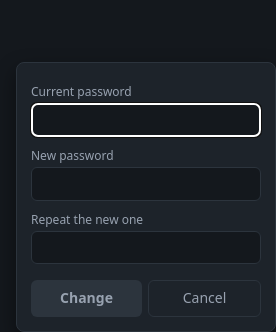
Test: changing your own password › clears what the shop said last time while it is asking again
This screenshot has width=276, height=332.
(page scrolled)
Type "the password in use" into the password field labelled "Current password".
click(146, 120); type("the password in use")  # box left=31, top=103, right=261, bottom=137
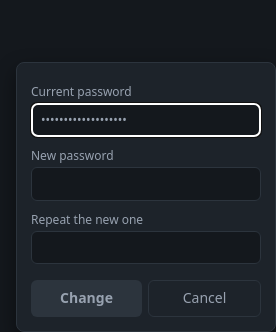
Type "a different password entirely" into the password field labelled "New password".
click(146, 184); type("a different password entirely")  # box left=31, top=167, right=261, bottom=201
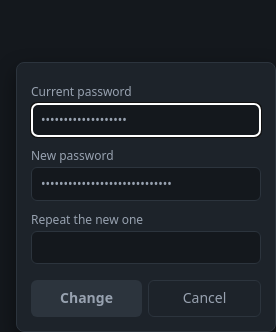
Type "a different password entirely" into the password field labelled "Repeat the new one".
click(146, 248); type("a different password entirely")  # box left=31, top=231, right=261, bottom=264
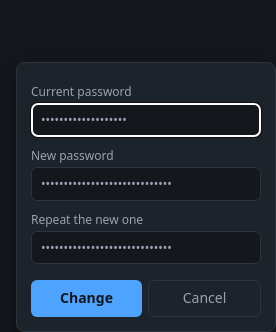
Click the button "Change".
click(86, 298)  # box left=31, top=280, right=142, bottom=317
(page scrolled)
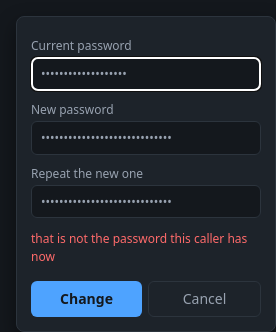
Expected: the text "that is not the password this caller has now" is shown, left=31, top=230, right=261, bottom=265
Click the button "Change".
click(86, 299)  # box left=31, top=281, right=142, bottom=317
(page scrolled)
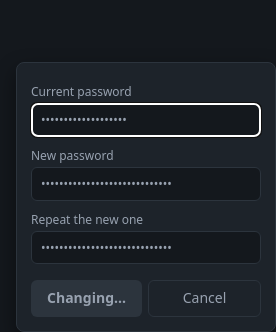
Expected: the button "Changing..." is shown, left=31, top=280, right=142, bottom=317
Expected: the text "that is not the password this caller has now" is gone
